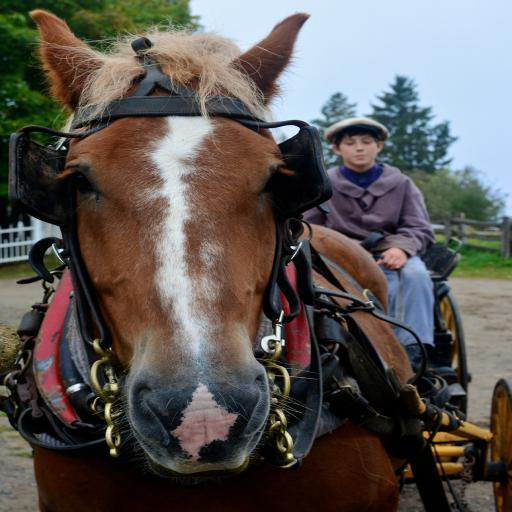horse: (31, 8, 411, 512)
